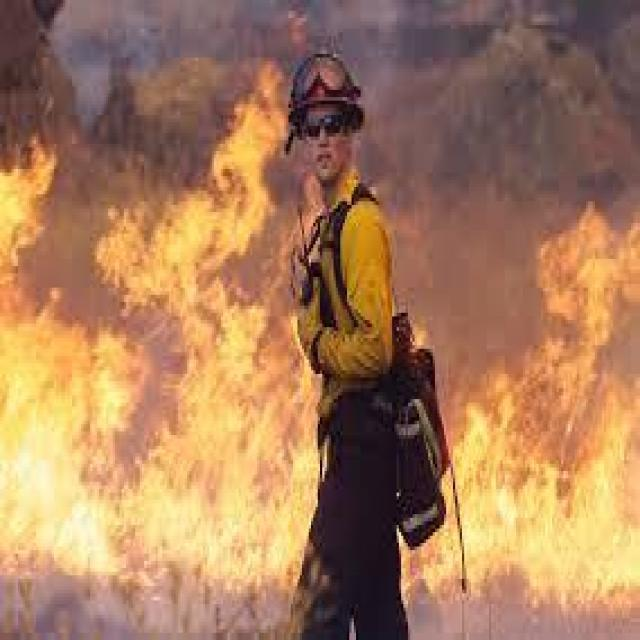Fire: (0, 59, 376, 636), (366, 171, 639, 640)
